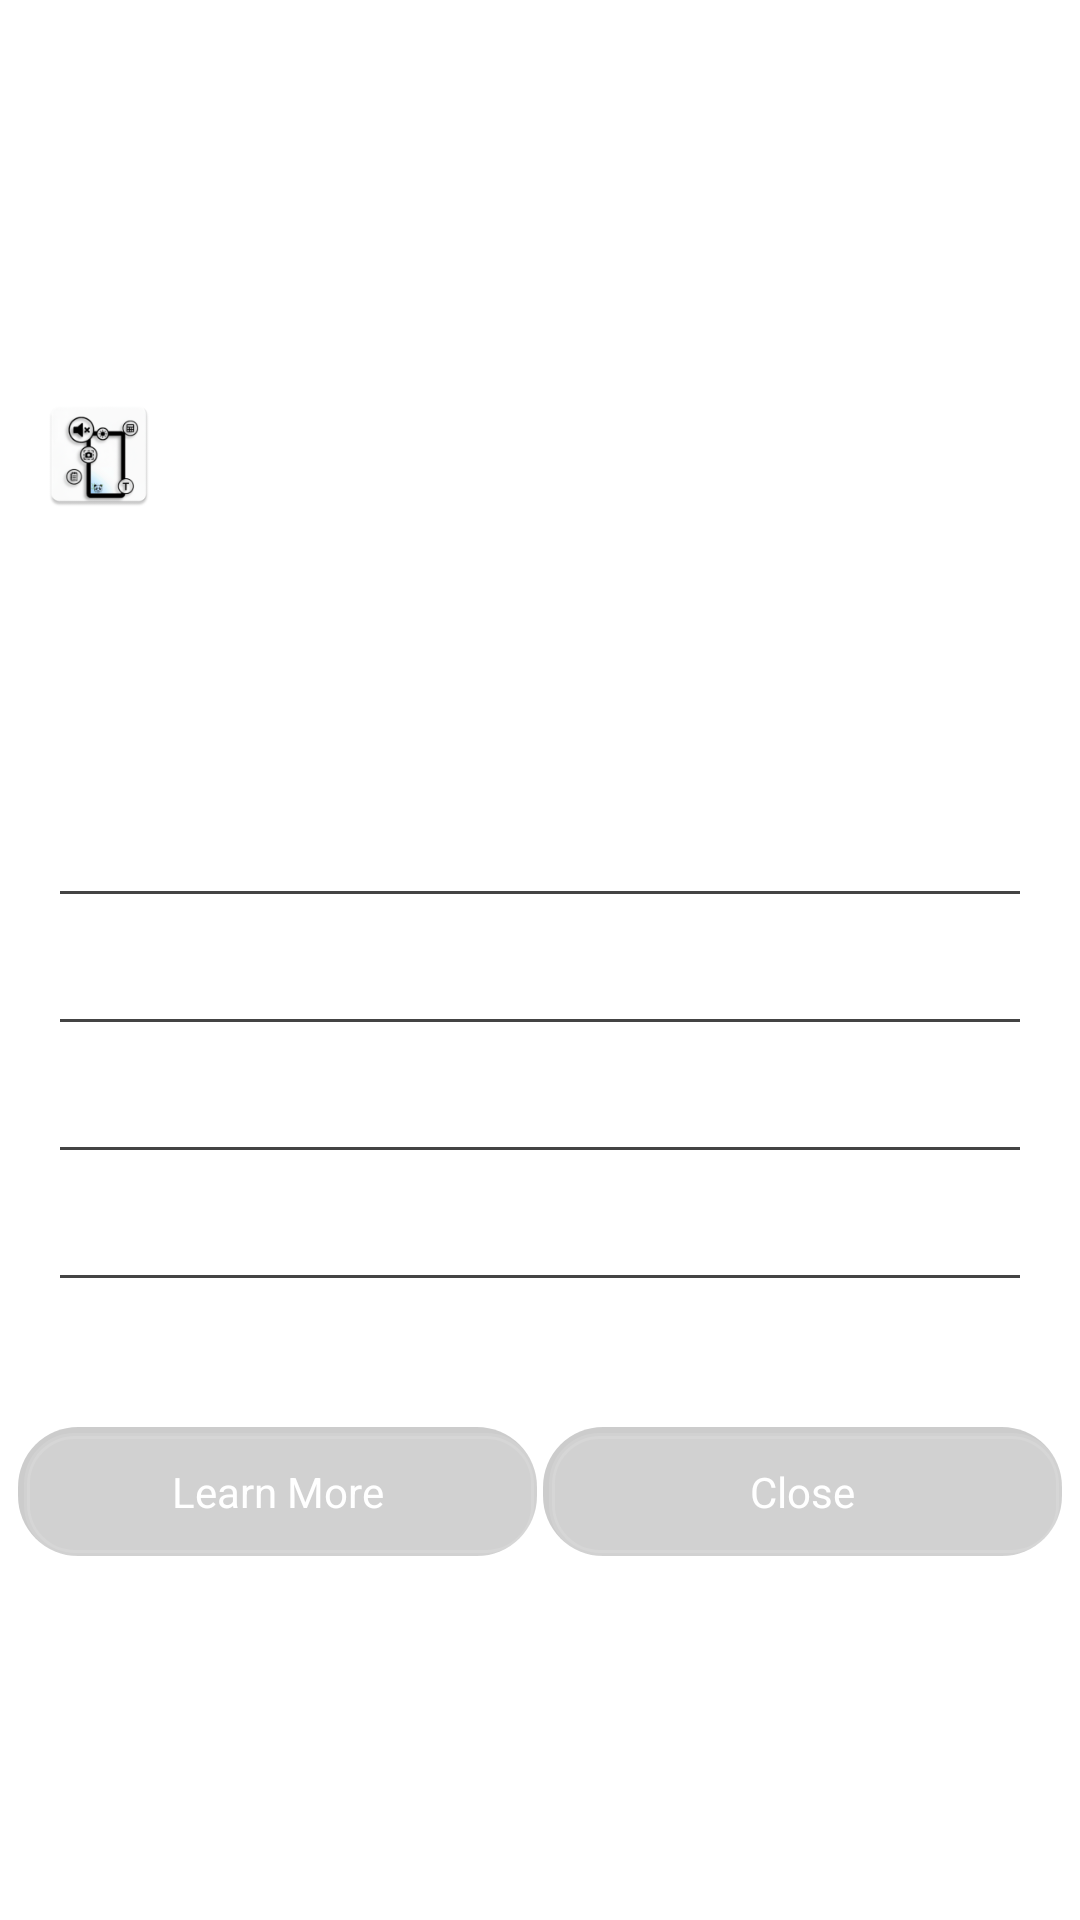

Screen size 1080w x 1920h. Icon name, then its center in pixels as (x=x, y=y):
appicon: (x=99, y=459)
